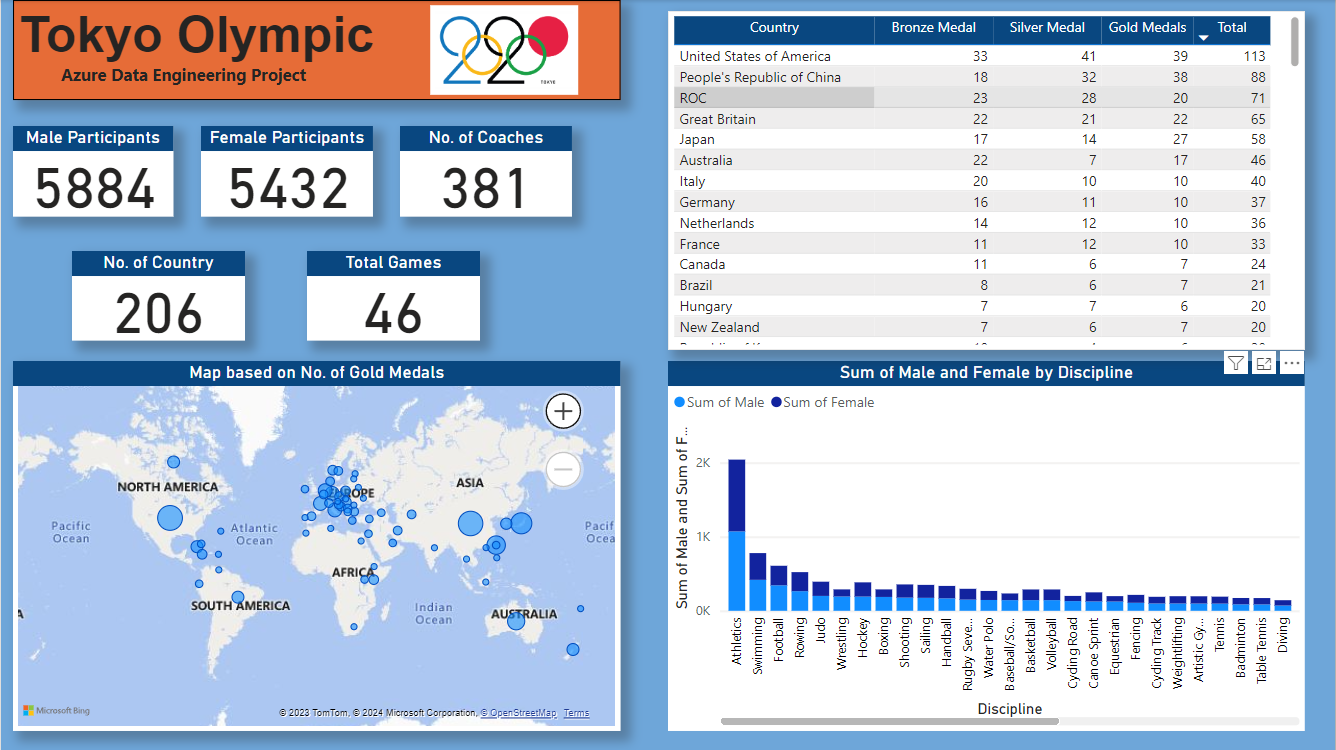

This screenshot's page, from the dashboard's own definition file:
{"tool":"powerbi","page":{"name":"Page 1","canvas":[1280,720],"ordinal":0},"visuals":[{"type":"card","title":"Male Participants","fields":{"Values":["EntriesGender.Male"]},"box":[11.3,120.8,153.8,86.8],"z":0},{"type":"card","title":"Female Participants","fields":{"Values":["EntriesGender.Female"]},"box":[191.5,120.8,165.1,86.8],"z":1000},{"type":"textbox","box":[11.5,0,583.4,96],"z":2000},{"type":"card","title":"No. of Coaches","fields":{"Values":["Coaches.Name"]},"box":[383,120.8,165.1,86.8],"z":3000},{"type":"card","title":"No. of Country","fields":{"Values":["Athletes.Country"]},"box":[67.9,240.6,166,85.8],"z":4000},{"type":"card","title":"Total Games","fields":{"Values":["Athletes.Discipline"]},"box":[293.4,240.6,166,85.8],"z":5000},{"type":"map","title":"Map based on No. of Gold Medals","fields":{"Category":["Medals.Country"],"Size":["Medals.Gold"]},"box":[11.3,346.2,583,354.7],"z":6000},{"type":"columnChart","title":"Sum of Male and Female by Discipline","fields":{"Category":["EntriesGender.Discipline"],"Y":["EntriesGender.Male","EntriesGender.Female"]},"box":[640,346.4,611.2,355],"z":7000},{"type":"tableEx","fields":{"Values":["Medals.Country","Medals.Bronze","Medals.Silver","Medals.Gold","Medals.Total"]},"box":[640,10.6,611.2,325.3],"z":8000},{"type":"image","box":[382.8,0,199.6,96],"z":9000}]}

Visuals, with their boxes in screenshot pixels (x1, y1, x2, y2), scaled from the page's 1280x720 canvas onto the 1336x750 screenshot:
"Male Participants" card: left=12, top=126, right=172, bottom=216
"Female Participants" card: left=200, top=126, right=372, bottom=216
textbox: left=12, top=0, right=621, bottom=100
"No. of Coaches" card: left=400, top=126, right=572, bottom=216
"No. of Country" card: left=71, top=251, right=244, bottom=340
"Total Games" card: left=306, top=251, right=479, bottom=340
"Map based on No. of Gold Medals" map: left=12, top=361, right=620, bottom=730
"Sum of Male and Female by Discipline" columnChart: left=668, top=361, right=1306, bottom=731
tableEx - Medals.Country x Medals.Bronze: left=668, top=11, right=1306, bottom=350
image: left=400, top=0, right=608, bottom=100
